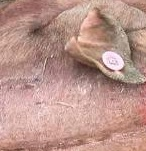text: (97, 44, 129, 77)
